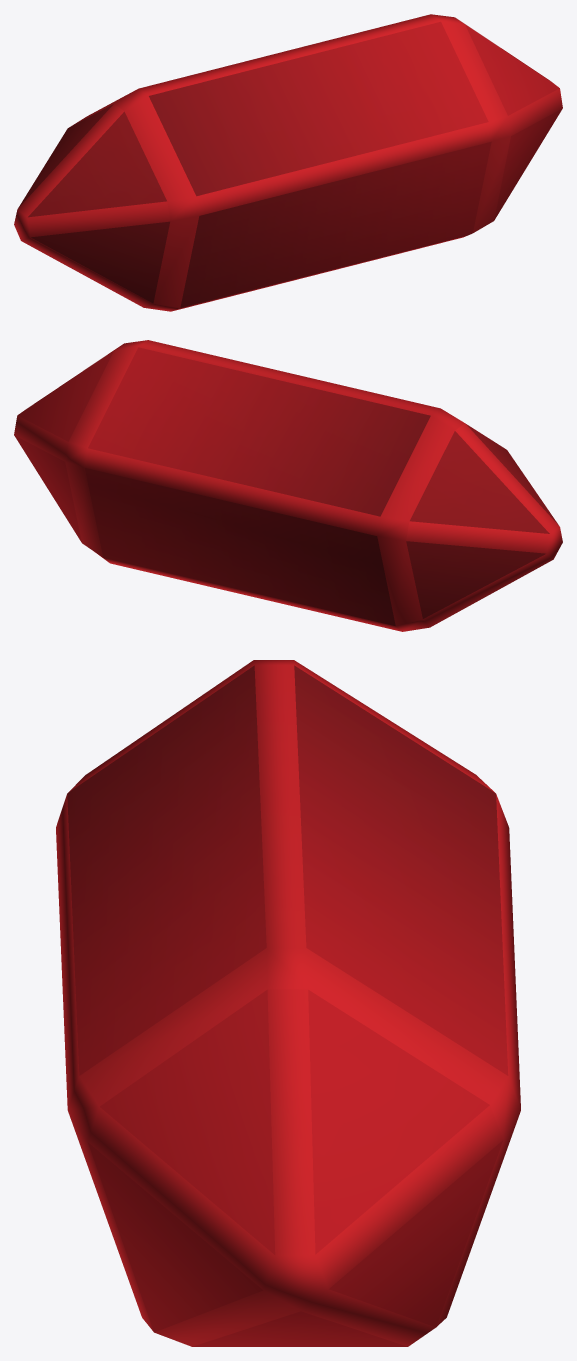
File: christal_ruby_5.fbx
The picture shows the model from 3 angles, top to bottom: view 1: azimuth 30°, elevation 25°; view 2: azimuth 150°, elevation 25°; view 3: azimuth 270°, elevation 25°; orthographic projection. The views are drawn at different scales.
Parts seen in each view (by area): view 1: christal_ruby_5; view 2: christal_ruby_5; view 3: christal_ruby_5.
Part boxes in pixels (x1,y1,x2,y2): christal_ruby_5: [14, 14, 562, 311]; christal_ruby_5: [14, 340, 562, 631]; christal_ruby_5: [56, 660, 520, 1346].
Bounding box in the file's own units: 64.29 × 22.77 × 24.56.
Materials: 1 (1 with a texture image).
